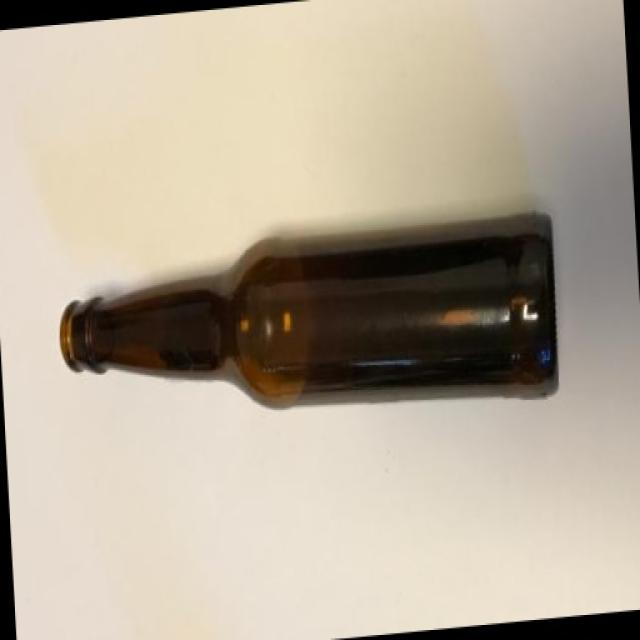vidrio: (29, 174, 592, 443)
